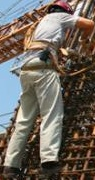boots: (39, 161, 63, 175), (1, 165, 19, 178)
gloves: (38, 49, 50, 61), (90, 78, 95, 88)
hard-hat: (46, 1, 74, 14)
